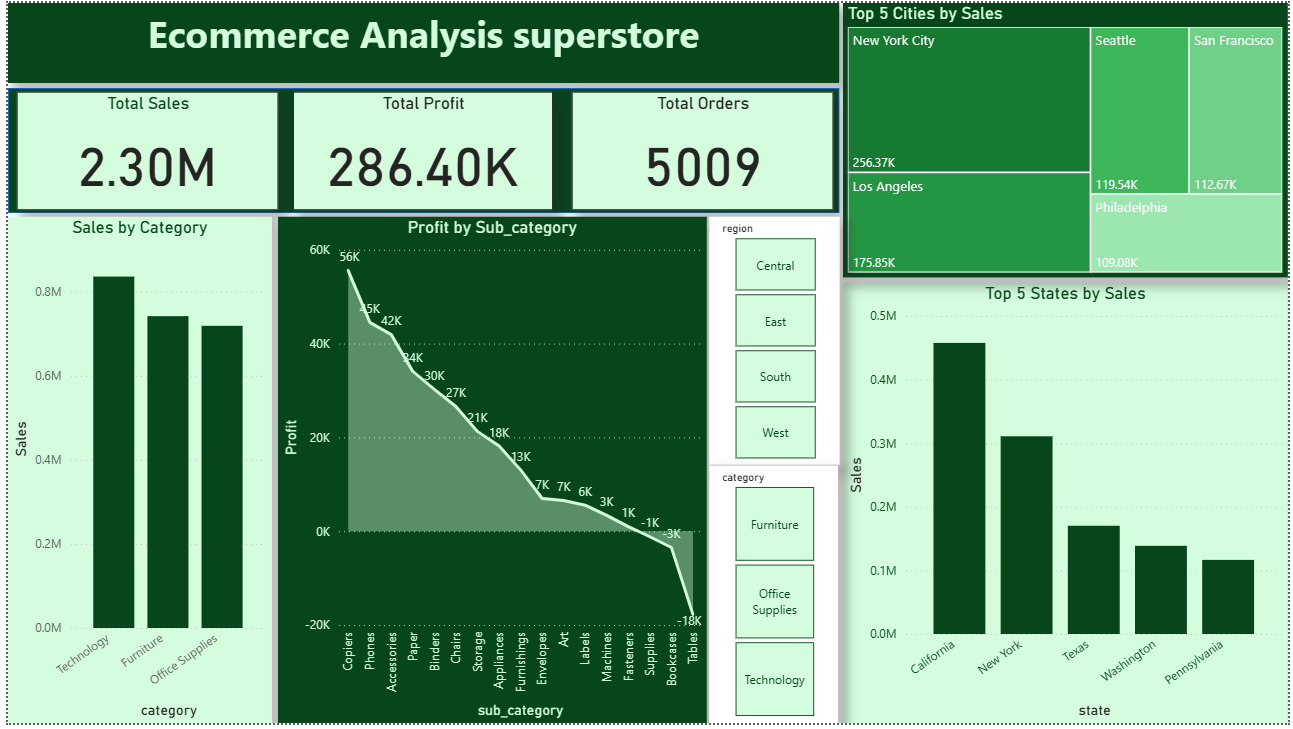

The dashboard page shown, as its layout file describes it:
{"tool":"powerbi","page":{"name":"Page 1","canvas":[1280,720],"ordinal":0},"visuals":[{"type":"textbox","box":[0,0,831.2,80],"z":0},{"type":"shape","box":[0,85,831.2,125],"z":1000},{"type":"card","title":"Total Sales","fields":{"Values":["Sum(ecommerce_analysis superstore.sales)"]},"box":[8.8,88.8,261.2,118.8],"z":2000},{"type":"card","title":"Total Profit","fields":{"Values":["Sum(ecommerce_analysis superstore.profit)"]},"box":[285,88.8,260,118.8],"z":3000},{"type":"card","title":"Total Orders","fields":{"Values":["Count(ecommerce_analysis superstore.order_id)"]},"box":[563.8,88.8,261.2,118.8],"z":4000},{"type":"columnChart","title":"Sales by Category","fields":{"Category":["ecommerce_analysis superstore.category"],"Y":["Sum(ecommerce_analysis superstore.sales)"]},"box":[0,213.8,263.8,506.2],"z":5000},{"type":"areaChart","title":"Profit by Sub_category","fields":{"Category":["ecommerce_analysis superstore.sub_category"],"Y":["Sum(ecommerce_analysis superstore.profit)"]},"box":[270,213.8,428.8,506.2],"z":6000},{"type":"clusteredColumnChart","title":"Top 5 States by Sales","fields":{"Category":["ecommerce_analysis superstore.state"],"Y":["Sum(ecommerce_analysis superstore.sales)"]},"box":[835,280,445,440],"z":7000},{"type":"treemap","title":"Top 5 Cities by Sales","fields":{"Group":["ecommerce_analysis superstore.city"],"Values":["Sum(ecommerce_analysis superstore.sales)"]},"box":[835.6,0,444.4,274.4],"z":8000},{"type":"slicer","fields":{"Values":["ecommerce_analysis superstore.region"]},"box":[701.2,214.1,130.4,248.4],"z":9000},{"type":"slicer","fields":{"Values":["ecommerce_analysis superstore.category"]},"box":[701.2,462.5,128.8,257.5],"z":10000}]}

Visuals, with their boxes in screenshot pixels (x1, y1, x2, y2), scaled from the page's 1280x720 canvas onto the 1293x729 screenshot:
textbox: (x1=0, y1=0, x2=840, y2=81)
shape: (x1=0, y1=86, x2=840, y2=213)
"Total Sales" card: (x1=9, y1=90, x2=273, y2=210)
"Total Profit" card: (x1=288, y1=90, x2=551, y2=210)
"Total Orders" card: (x1=570, y1=90, x2=833, y2=210)
"Sales by Category" columnChart: (x1=0, y1=216, x2=266, y2=728)
"Profit by Sub_category" areaChart: (x1=273, y1=216, x2=706, y2=728)
"Top 5 States by Sales" clusteredColumnChart: (x1=843, y1=284, x2=1292, y2=728)
"Top 5 Cities by Sales" treemap: (x1=844, y1=0, x2=1292, y2=278)
slicer - ecommerce_analysis superstore.region: (x1=708, y1=217, x2=840, y2=468)
slicer - ecommerce_analysis superstore.category: (x1=708, y1=468, x2=838, y2=728)
